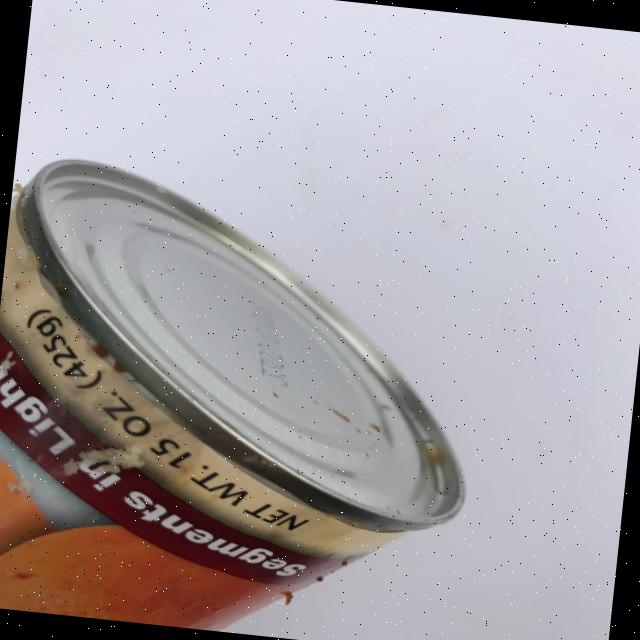metal: (0, 150, 496, 640)
